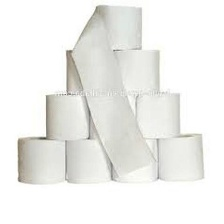tissue: (67, 0, 162, 178), (14, 131, 69, 186), (41, 88, 95, 144), (153, 130, 209, 184), (62, 133, 116, 186), (107, 132, 161, 185), (132, 90, 185, 141), (111, 46, 163, 95)
